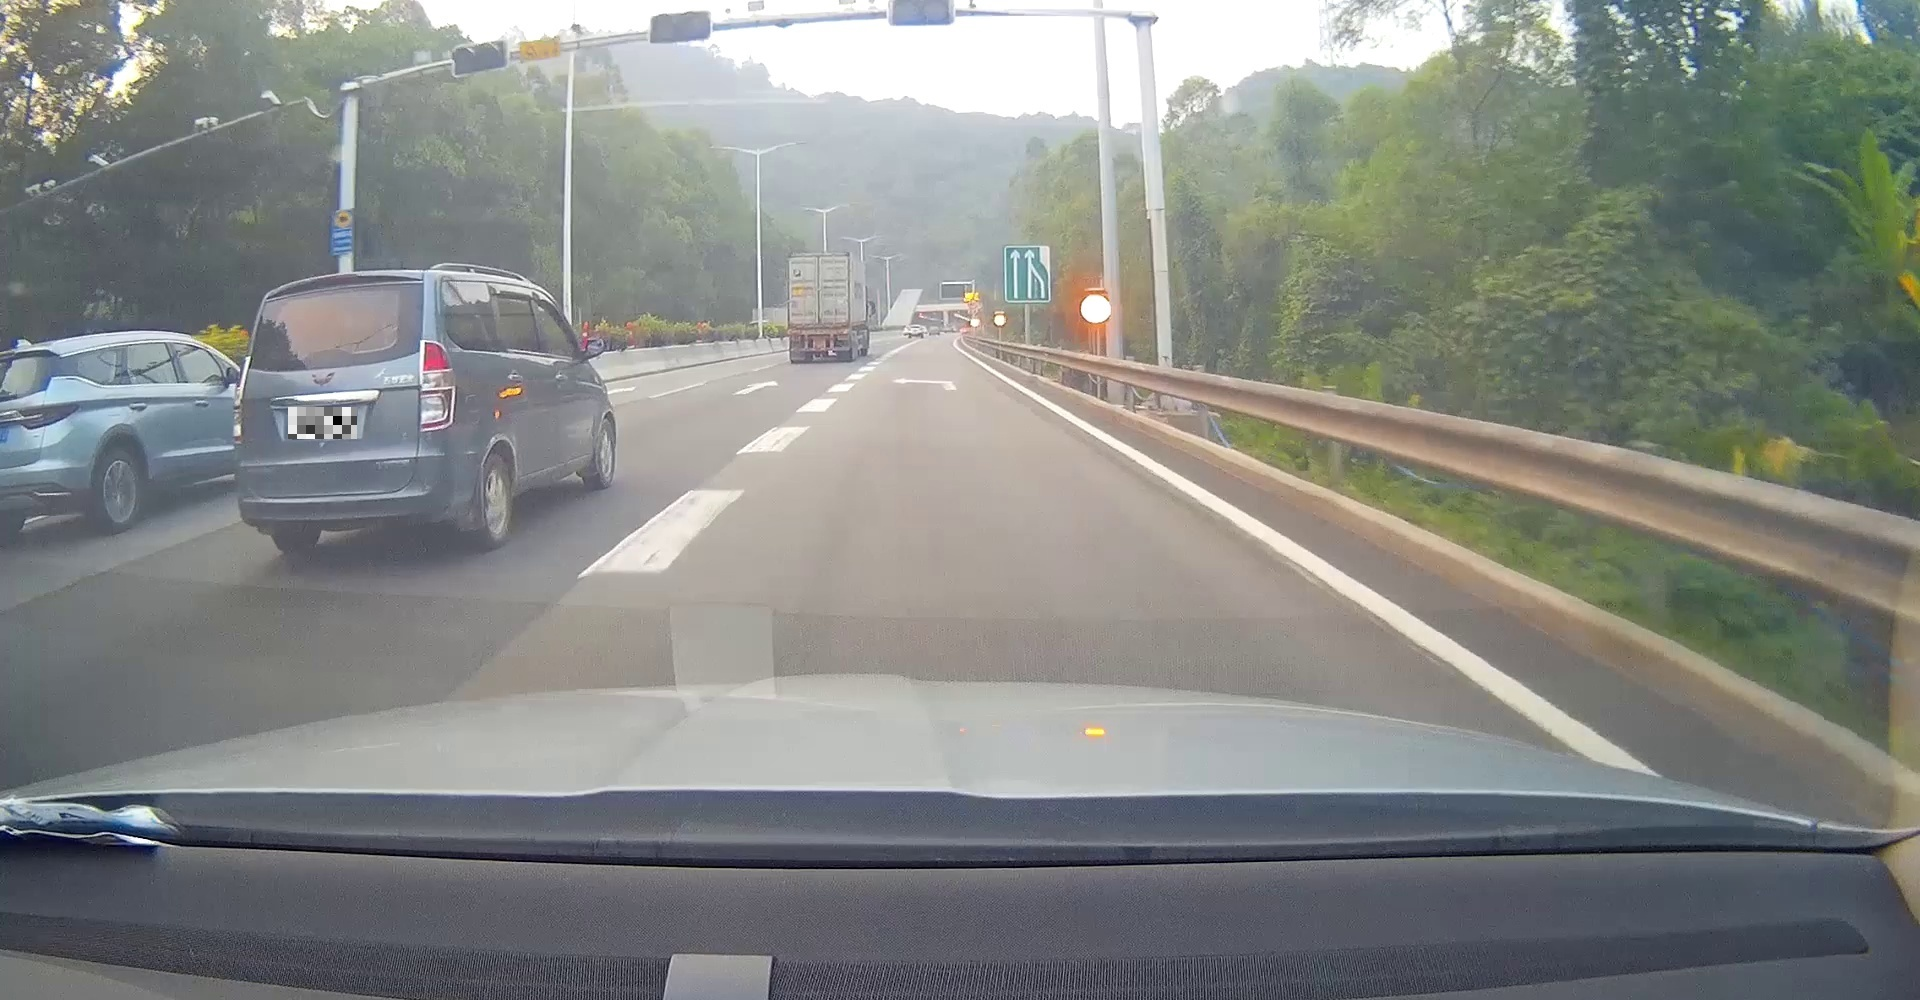L_light: (232, 355, 251, 445), (790, 335, 803, 341)
R_light: (418, 339, 456, 431), (837, 335, 850, 340)
T_light: (315, 274, 357, 280), (814, 253, 824, 255)
day-no: (232, 272, 463, 555), (787, 251, 851, 364)
plate_1: (288, 407, 357, 439)
